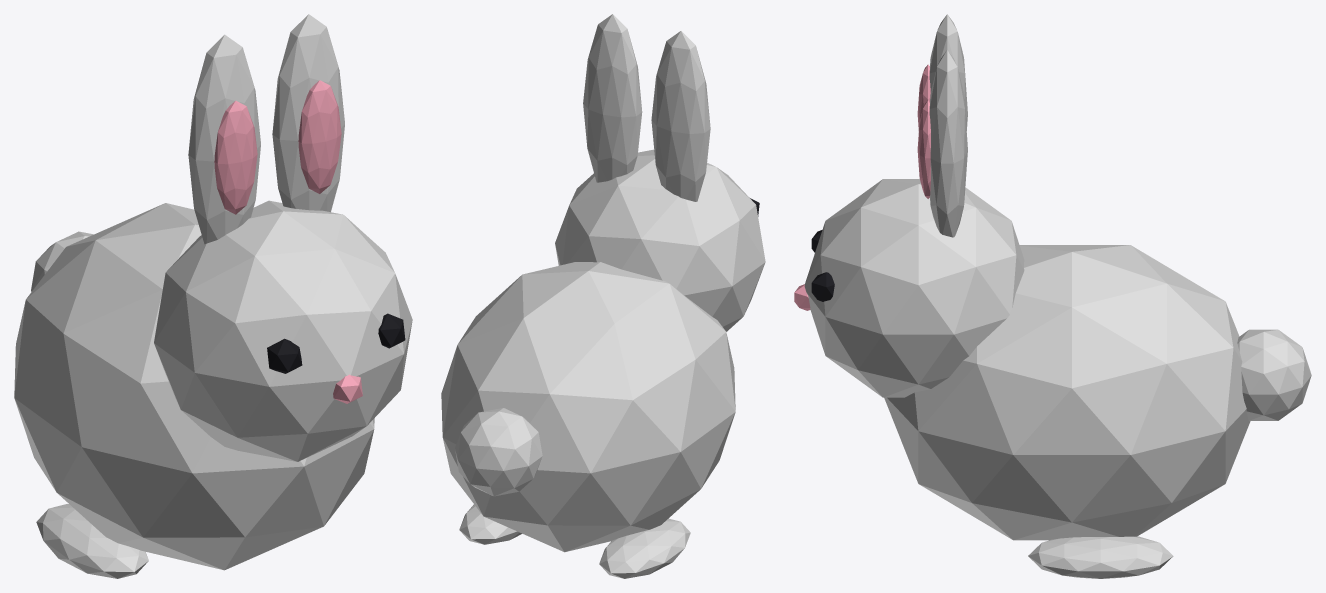
File: Bunny.fbx
3 renders of one model, left to right at view 1: azimuth 30°, elevation 25°; view 2: azimuth 150°, elevation 25°; view 3: azimuth 270°, elevation 25°, orthographic. The views are drawn at different scales.
Visible parts, largest first — view 1: Fur, Pink, Eyes; view 2: Fur; view 3: Fur, Pink, Eyes.
Part boxes in pixels (bbox=[...]): Fur: bbox=[14, 14, 412, 578]; Pink: bbox=[214, 80, 362, 403]; Eyes: bbox=[267, 313, 405, 373]; Fur: bbox=[441, 14, 765, 578]; Fur: bbox=[804, 14, 1311, 578]; Pink: bbox=[794, 64, 930, 310]; Eyes: bbox=[811, 230, 834, 301].
Size of the model in its own units: 1.54 by 2.91 by 2.7.
